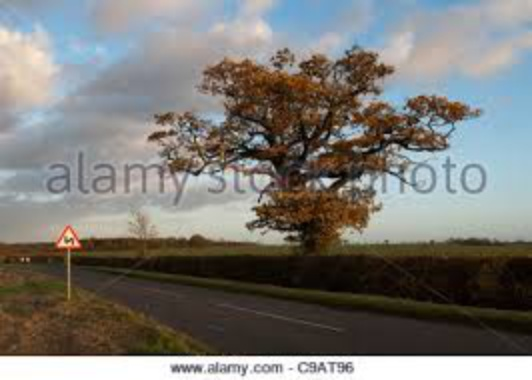Double_bend_left: (53, 224, 82, 249)
